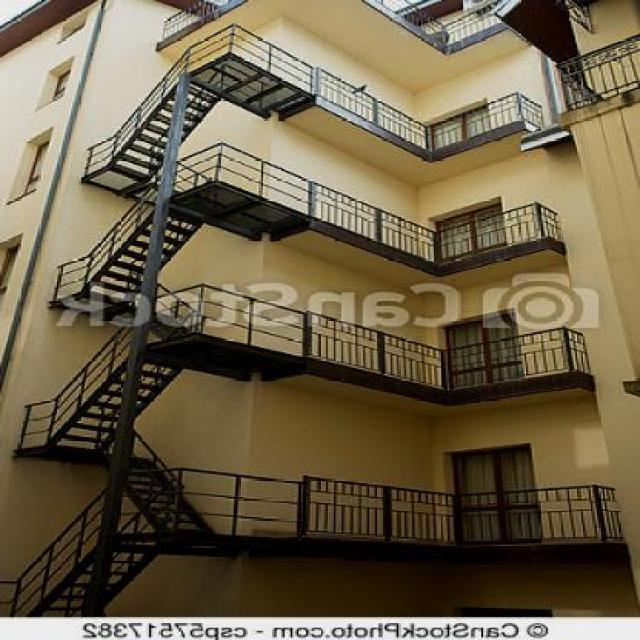stair: (18, 332, 225, 546), (16, 47, 290, 181), (18, 179, 254, 318)
